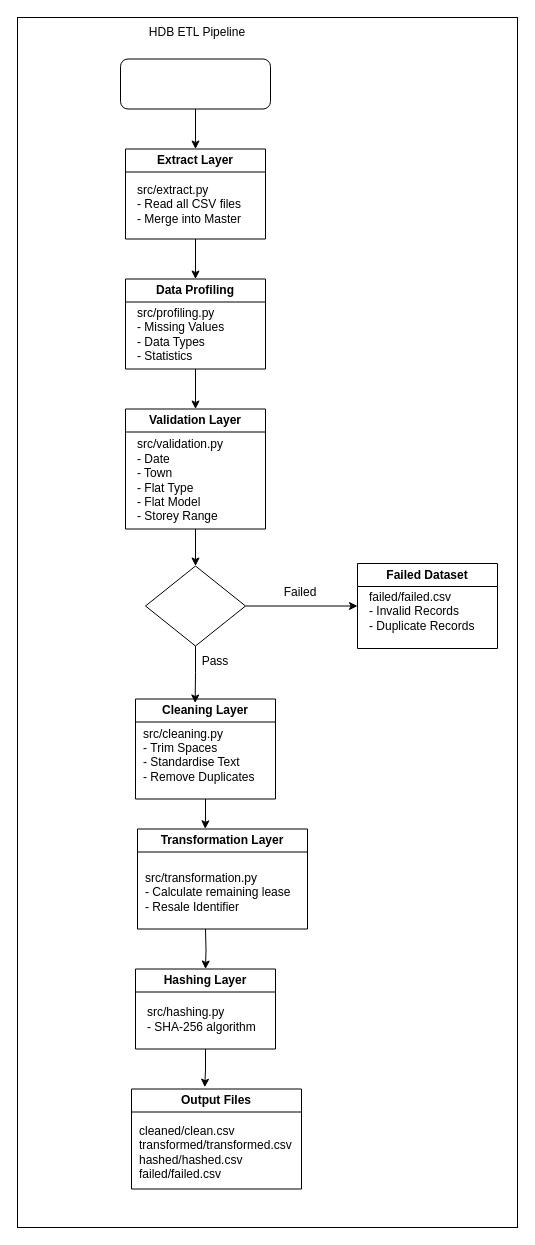
Some shapes in this 535 by 1245 pixel diagram are drawn without their labels. The centre of each missing label's shape, as x and y in pixels:
"Input CSV Files (Jan 2012 - Dec 2016)" goes at point 195,83.
"Validate?" goes at point 195,605.
